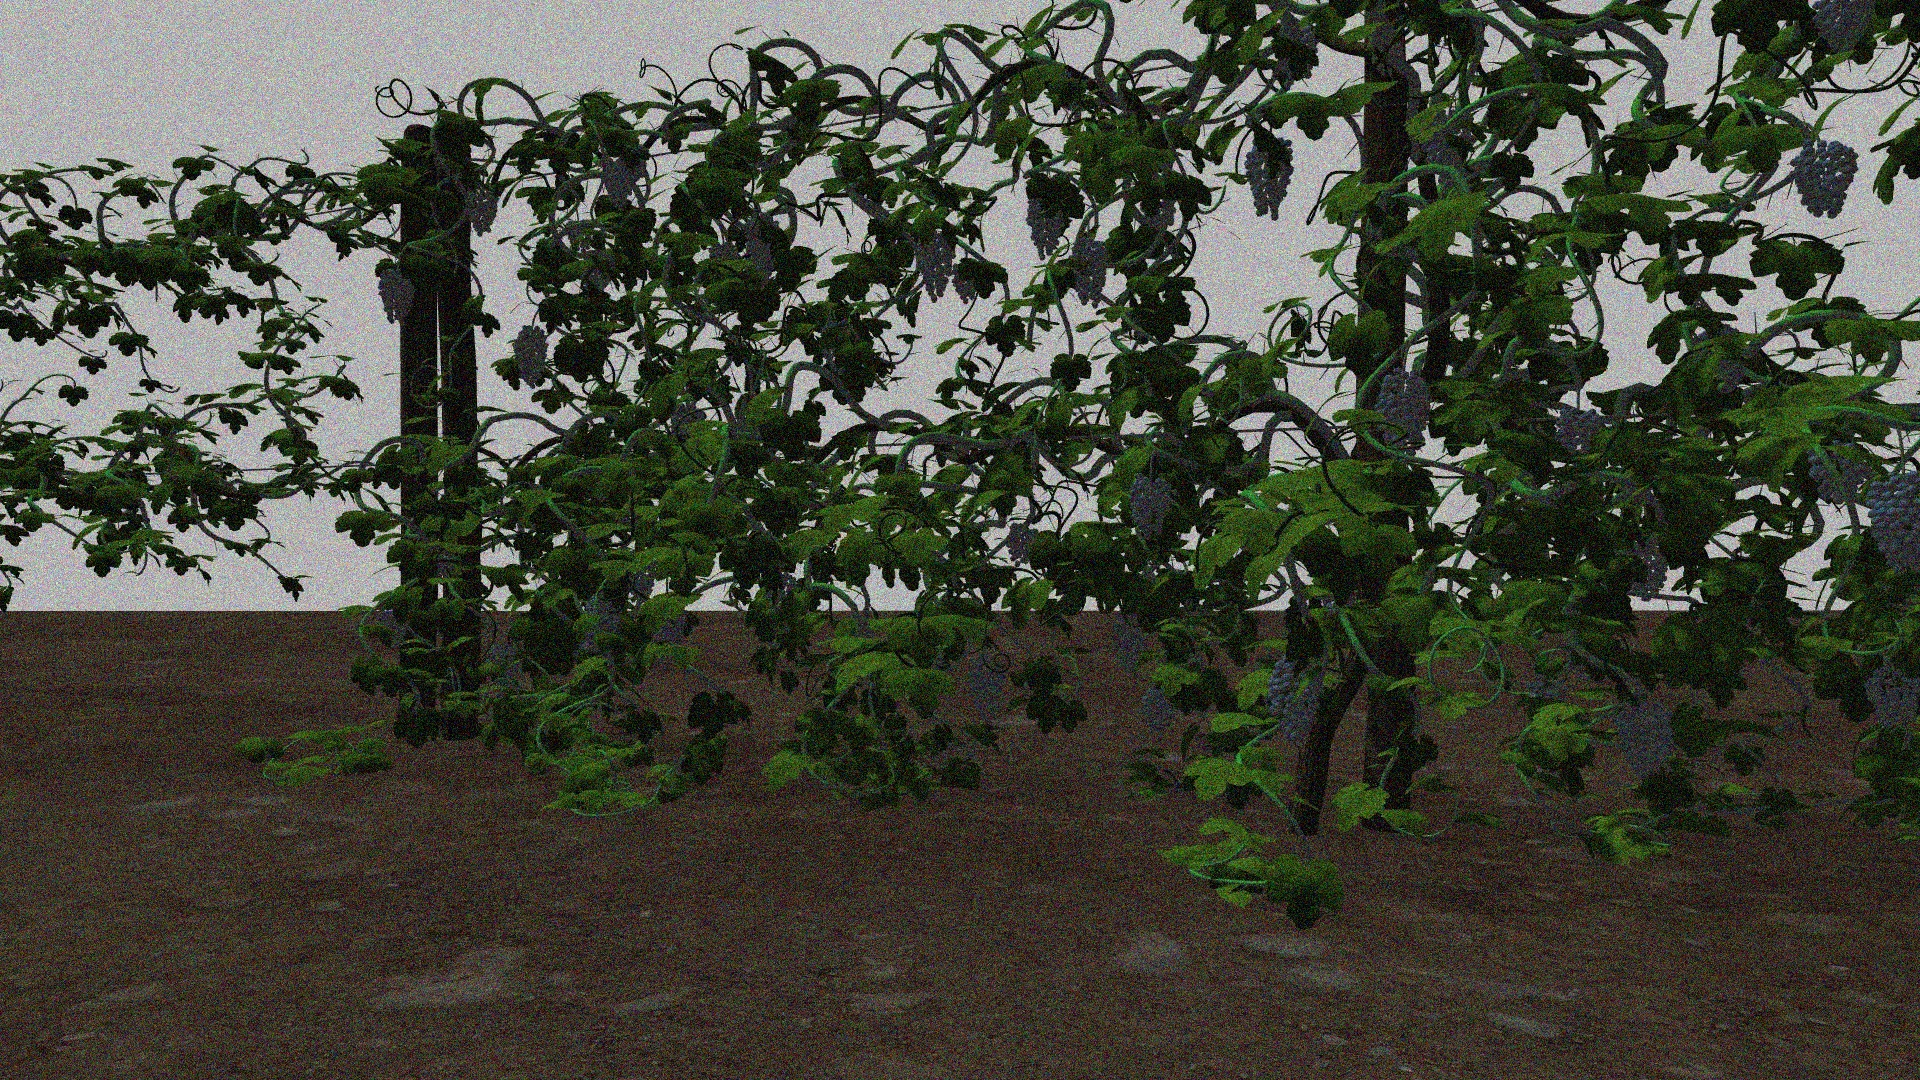grape: (1613, 694, 1675, 781), (1791, 138, 1857, 219), (1266, 654, 1321, 746), (1867, 473, 1915, 578), (1377, 367, 1432, 454), (1245, 135, 1294, 219), (1807, 444, 1865, 504), (1865, 666, 1916, 729), (1811, 3, 1875, 53), (1025, 185, 1065, 258), (1129, 473, 1172, 539), (916, 231, 955, 305), (967, 654, 1006, 725), (1069, 237, 1109, 309), (580, 593, 624, 654), (512, 326, 551, 385), (1110, 615, 1149, 674), (377, 269, 415, 326), (1557, 407, 1604, 454), (651, 608, 687, 667), (744, 216, 779, 272), (1139, 688, 1176, 741), (464, 181, 498, 236), (599, 160, 629, 211), (375, 609, 410, 649), (1006, 524, 1038, 567), (628, 558, 658, 603), (489, 641, 520, 684), (615, 146, 647, 185)
